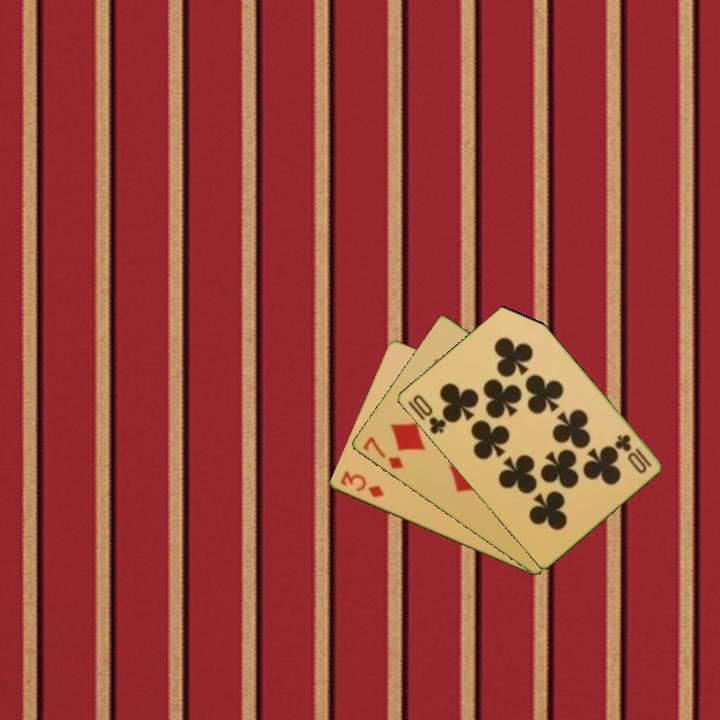10c: (409, 391, 449, 437), (611, 430, 654, 470)
3d: (336, 467, 387, 501)
7d: (359, 433, 406, 472)
